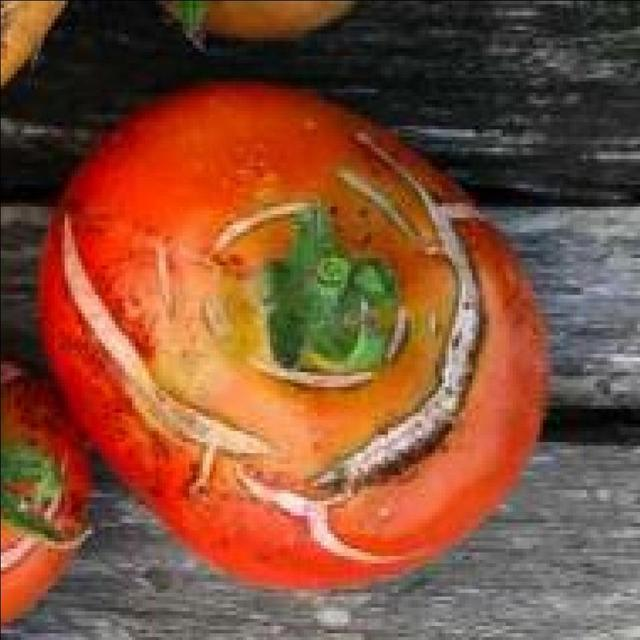Cracking Fruit: (25, 58, 280, 346)
